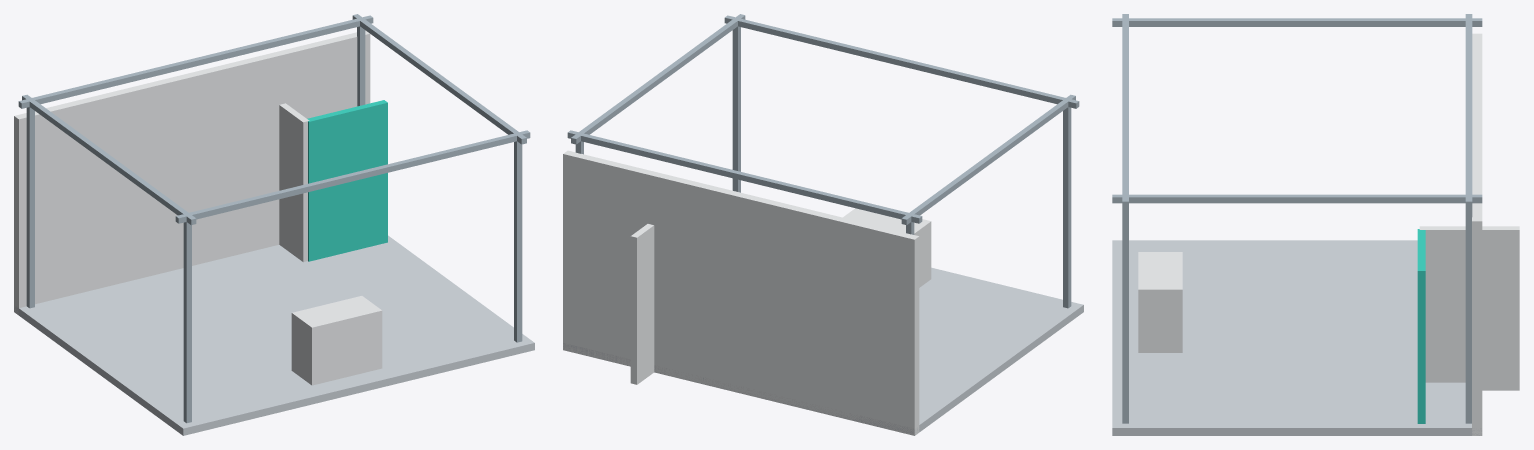
3 views of the same model, side by side, from view 1: azimuth 30°, elevation 25°; view 2: azimuth 150°, elevation 25°; view 3: azimuth 270°, elevation 25° (orthographic). The views are drawn at different scales.
Visible parts, largest first — view 1: Exhibition Booth Concept; view 2: Exhibition Booth Concept; view 3: Exhibition Booth Concept.
Part boxes in pixels (x1,y1,x2,y2): Exhibition Booth Concept: (14,14,534,435); Exhibition Booth Concept: (563,14,1083,435); Exhibition Booth Concept: (1112,14,1519,435).
Bounding box in the file's own units: 6 × 3.49 × 5.51.
